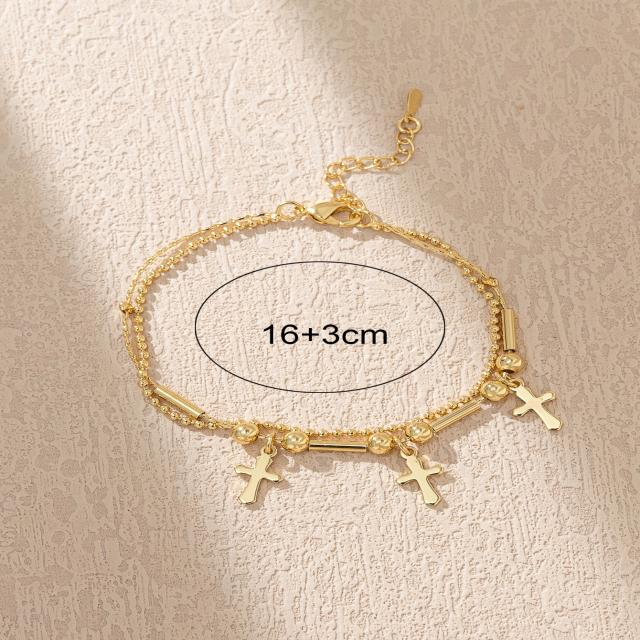bracelet: (102, 30, 623, 542)
